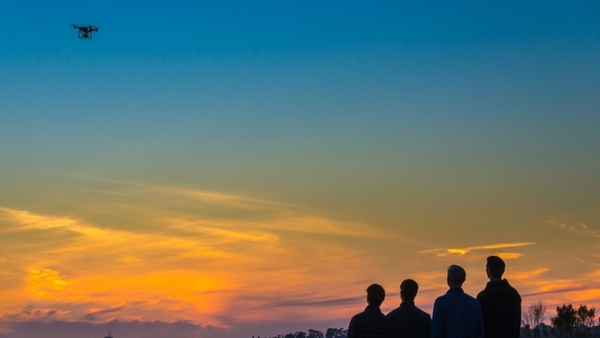drone: (67, 22, 102, 43)
